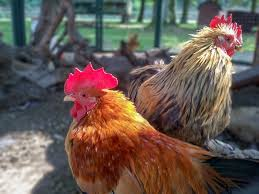nontarget: (47, 65, 215, 194), (134, 1, 259, 150)
